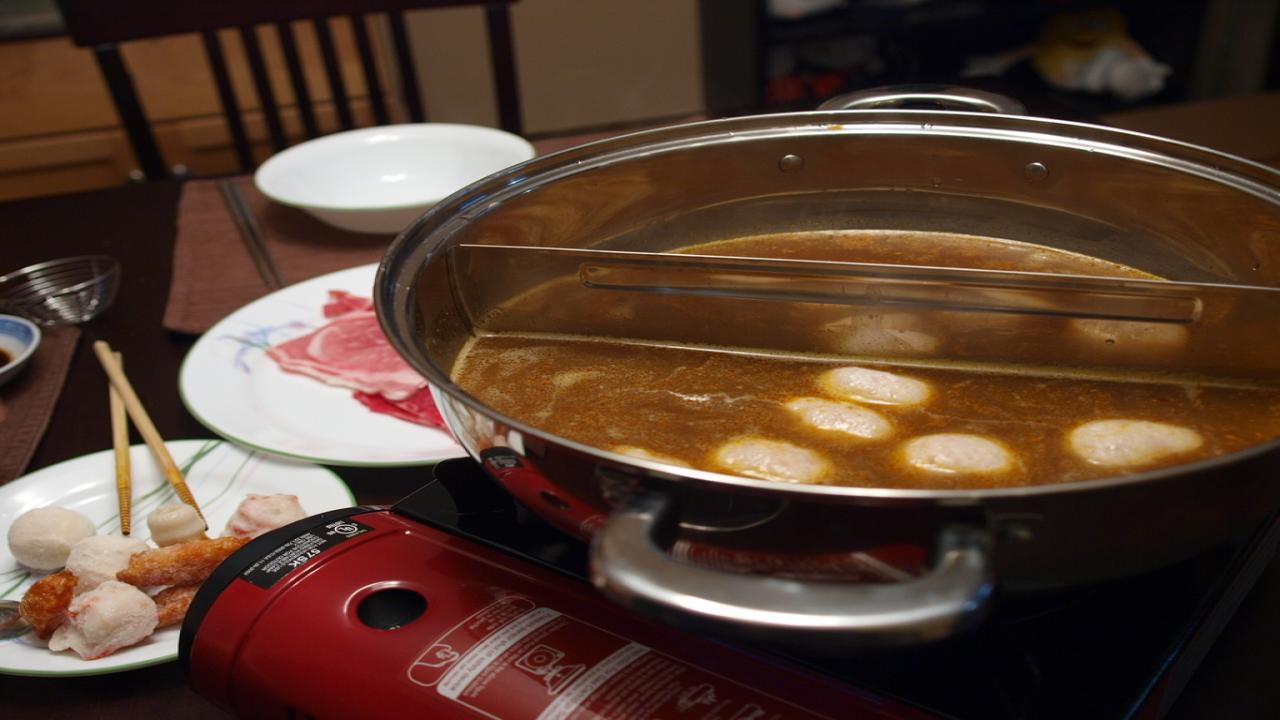chopstick: (95, 342, 204, 536), (217, 177, 280, 284)
